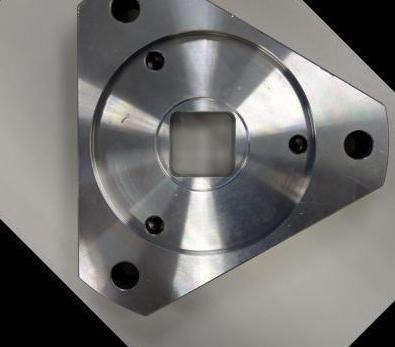hole: (335, 121, 382, 168), (102, 252, 148, 298), (100, 0, 149, 31), (135, 42, 171, 78), (138, 209, 170, 242), (282, 128, 314, 160)
